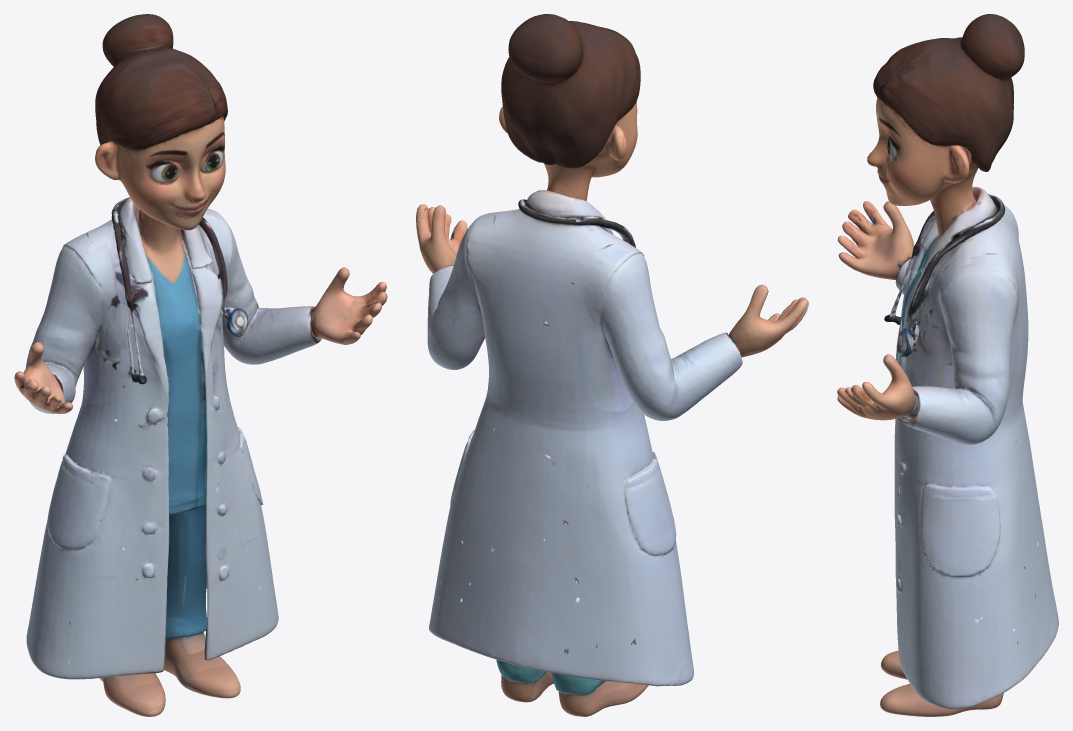
The model's file is doctor.glb.
3 renders of one model, left to right at view 1: azimuth 30°, elevation 25°; view 2: azimuth 150°, elevation 25°; view 3: azimuth 270°, elevation 25°, orthographic. The views are drawn at different scales.
Bounding box in the file's own units: 1.18 × 2 × 0.5968.
1 material, 1 textured.
